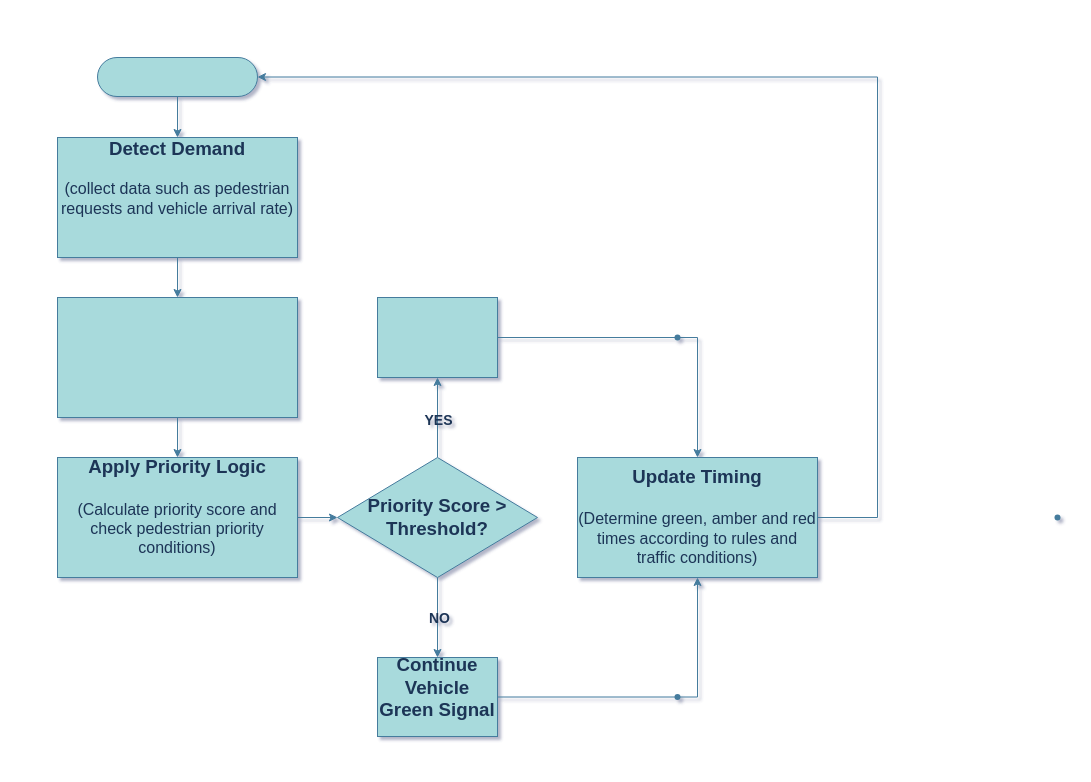
Some shapes in this 1091 by 782 pixel diagram are drawn without their labels. The shapes that lost their labels are listed below. From the top down, each one's centre as x and y in pixels, then its label:
the point at 177,76: Start
the point at 177,357: Evaluate Requests (Identify calls, update requests and waiting time)
the point at 437,337: Grant Pedestrian Green Signal
